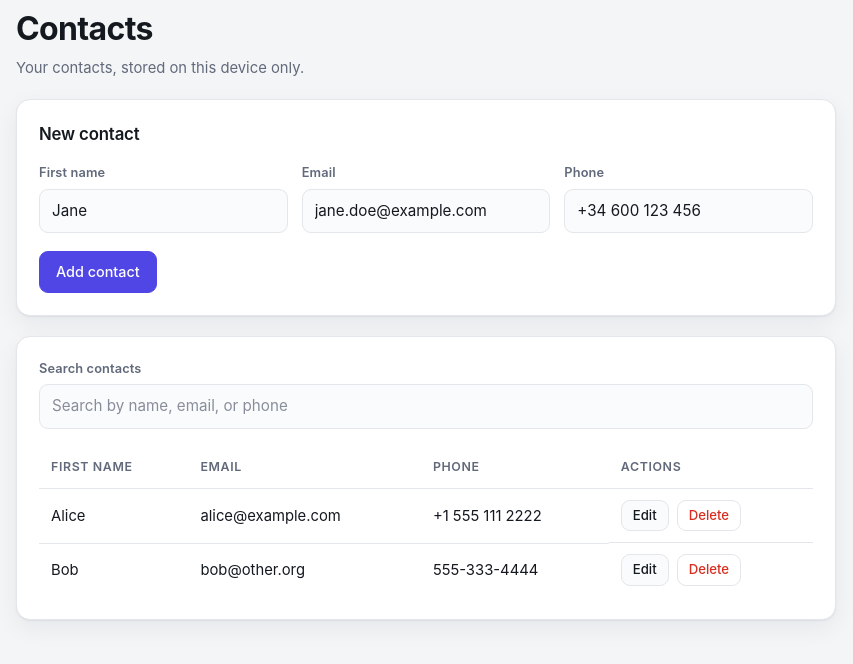
Scenario: editing a contact › rejects an edit that collides with another contact’s email
This screenshot has width=853, height=664.
Click the button "Edit" in the row of "alice@example.com".
click(645, 515)  # box [621,500,669,531]
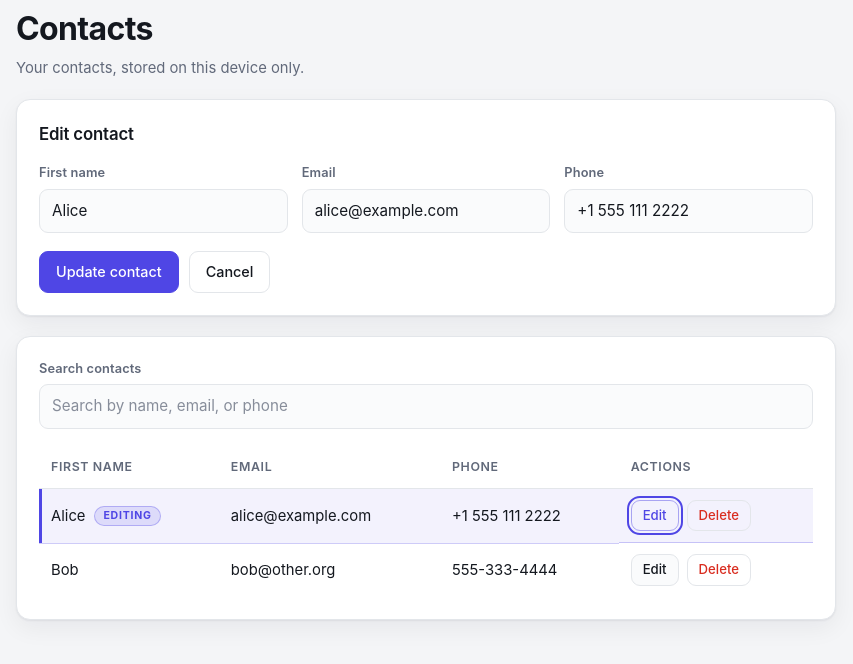
Replace the text in the field labelled "Email" with "bob@other.org" at (426, 211), box [302,189,550,233]
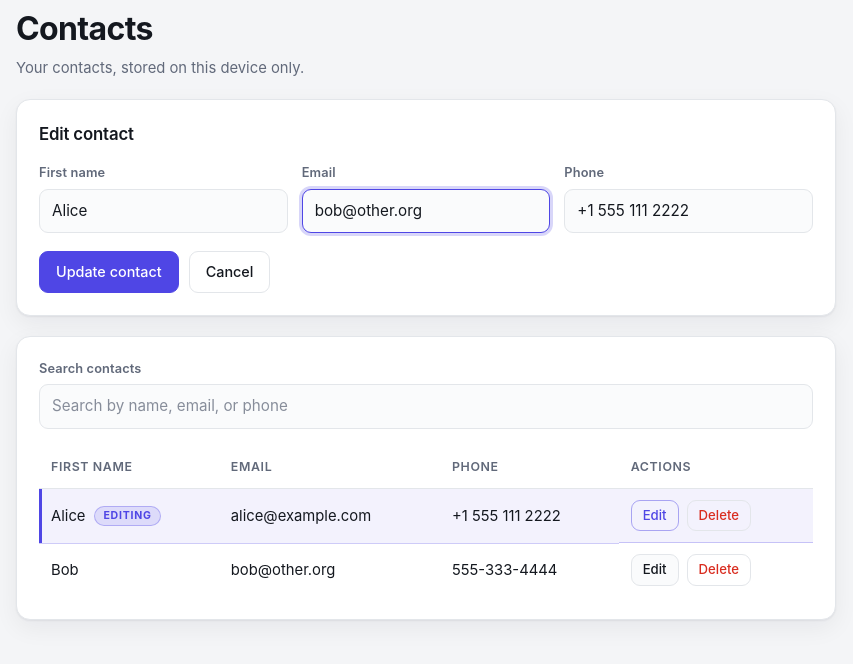
Click the button "Update contact".
click(109, 272)  # box [39,251,179,293]
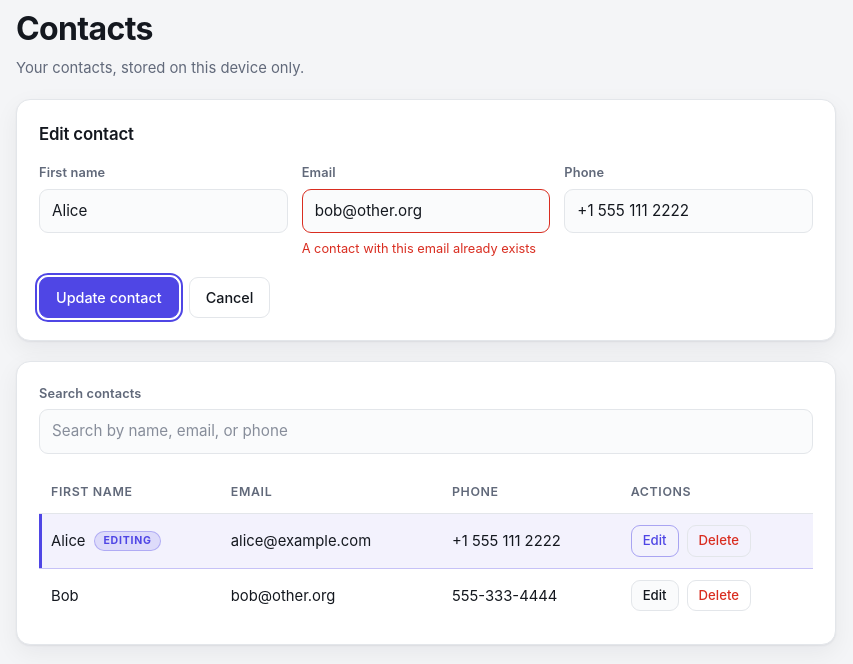
Check: the text "alice@example.com" is shown, box [219,514,440,568]
Check: the text "A contact with this email already exists" is shown, box [302,239,550,258]
